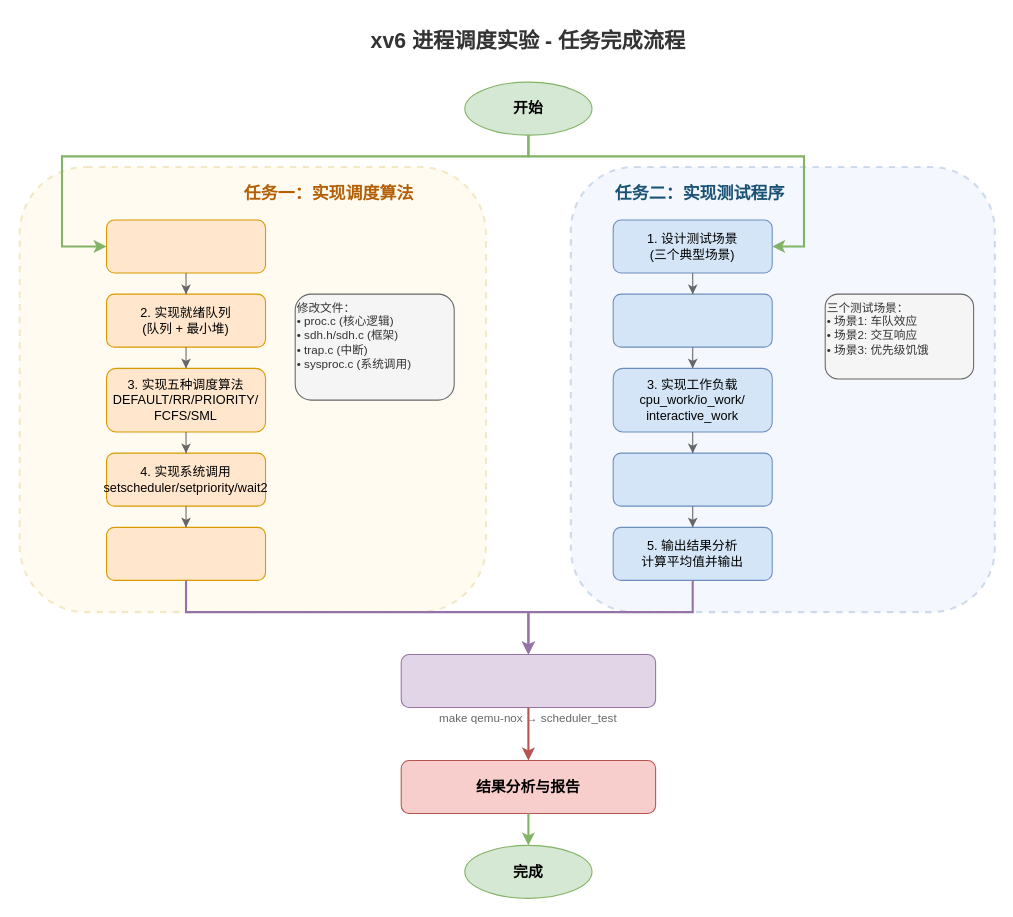
This 1013x917 diagram has some shape labels left out. Here are the shapes that lost their labels. From the top down, the centre of each, then its label:
At point 185,246: "1. 设计调度框架 (函数指针数组)".
At point 692,320: "2. 实现进程创建 fork() + setpriority()".
At point 692,479: "4. 收集统计信息 wait2() 系统调用".
At point 185,553: "5. 实现抢占机制 (trap.c 时钟中断)".
At point 528,680: "编译运行验证".
